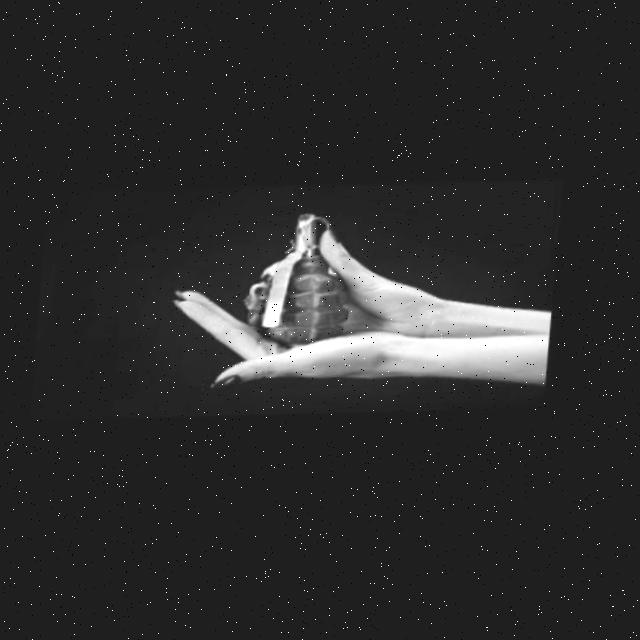grenade: (242, 203, 377, 364)
